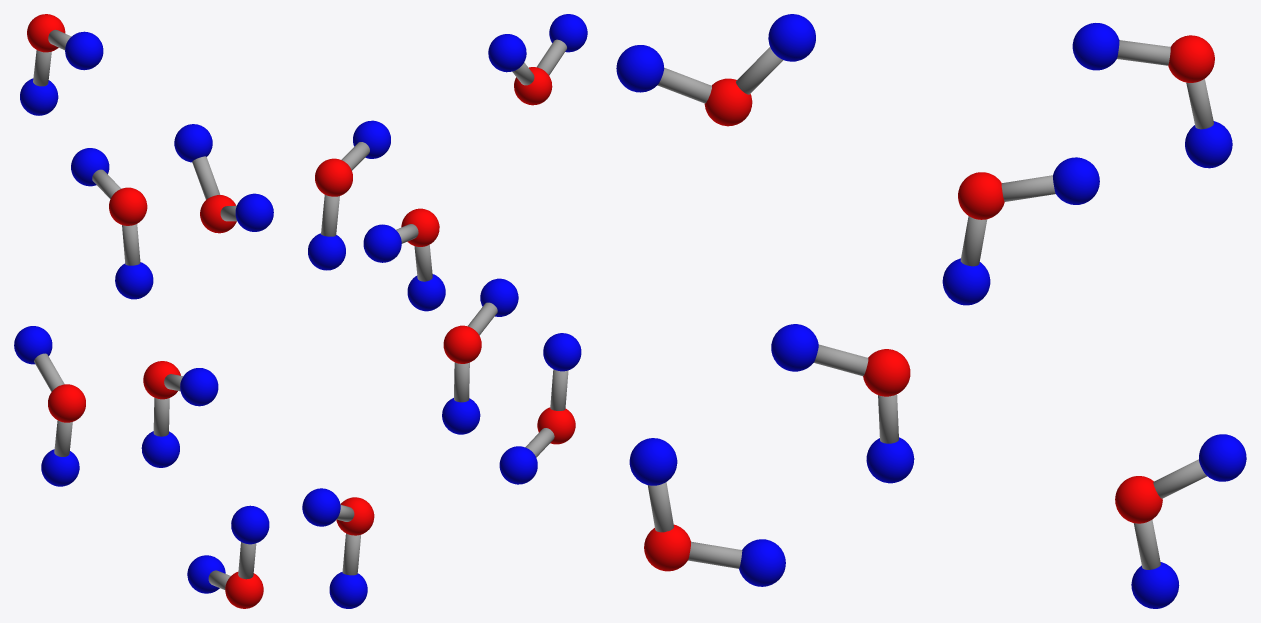
File: WaterSteam.gltf
3 views of the same model, side by side, from view 1: azimuth 30°, elevation 25°; view 2: azimuth 150°, elevation 25°; view 3: azimuth 270°, elevation 25° (orthographic). The views are drawn at different scales.
Parts seen in each view (by area): view 1: Sphere, Sphere.005, Sphere.002, Sphere.001, Sphere.004, Sphere.003; view 2: Sphere.004, Sphere.001, Sphere.003, Sphere, Sphere.005, Sphere.002; view 3: Sphere.002, Sphere.001, Sphere.003, Sphere.004, Sphere.005, Sphere.
Boxes of the visible parts, x1,y1,x2,y2 form: Sphere: (14,326,85,486); Sphere.005: (71,148,153,299); Sphere.002: (174,124,273,233); Sphere.001: (187,505,269,608); Sphere.004: (141,361,218,467); Sphere.003: (20,14,103,115); Sphere.004: (442,278,518,434); Sphere.001: (499,333,581,484); Sphere.003: (308,120,390,270); Sphere: (302,488,374,608); Sphere.005: (363,208,445,311); Sphere.002: (488,14,587,105); Sphere.002: (616,14,815,126); Sphere.001: (629,438,785,586); Sphere.003: (1072,23,1232,168); Sphere.004: (771,324,914,483); Sphere.005: (942,157,1099,305); Sphere: (1115,434,1246,608).
Size of the model in its own units: 1.4 by 13.45 by 13.18.
